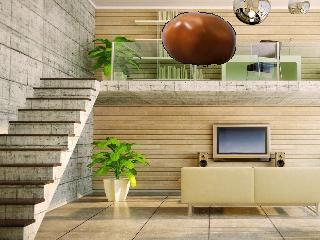potato: (156, 9, 240, 68)
